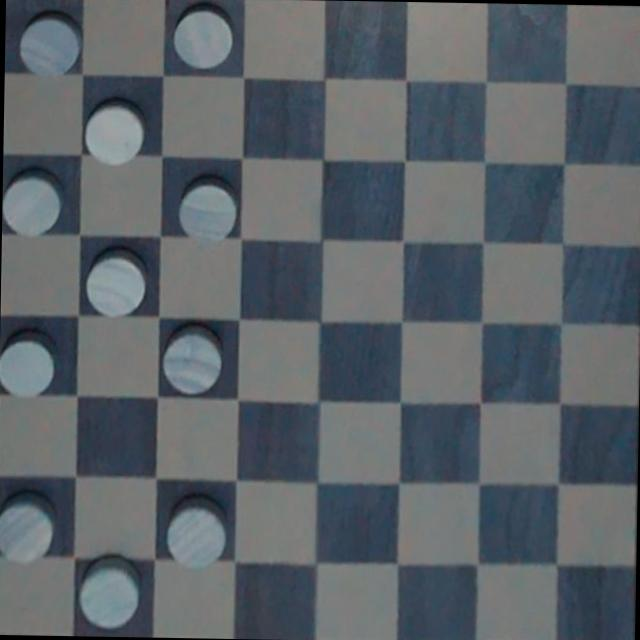BOARD: (0, 0, 640, 640)
white: (1, 163, 76, 244), (12, 4, 86, 82), (78, 549, 150, 629), (161, 497, 233, 572), (82, 244, 148, 324), (169, 0, 237, 77), (160, 320, 226, 398), (81, 94, 149, 168), (0, 330, 67, 405), (0, 476, 55, 564), (174, 178, 242, 242)
